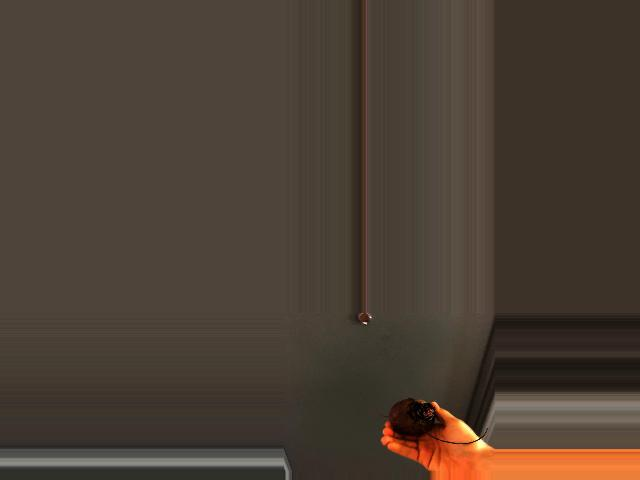beet: (376, 399, 486, 445)
